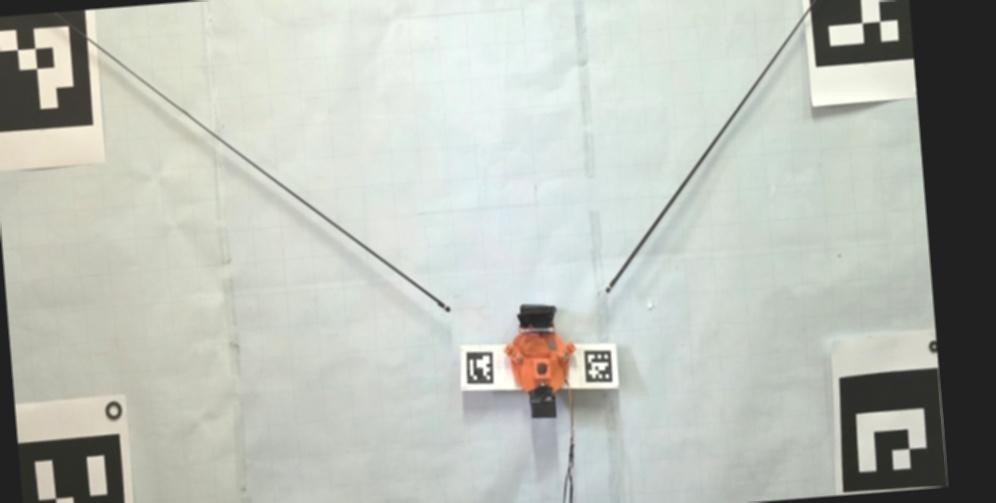robot: (504, 304, 576, 419)
